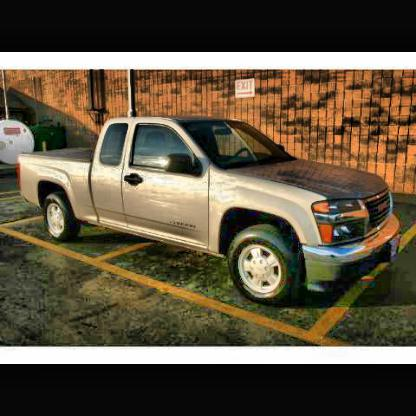GMC Canyon Extended Cab 2012: (20, 117, 403, 308)
